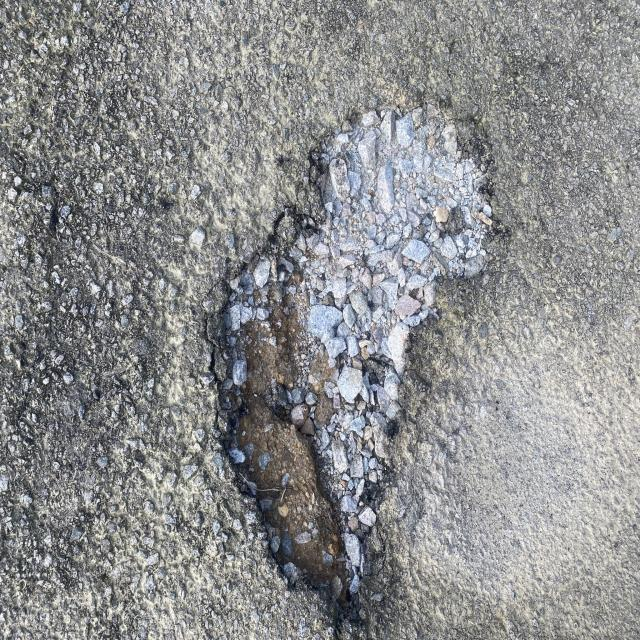pothole: (146, 52, 538, 625)
